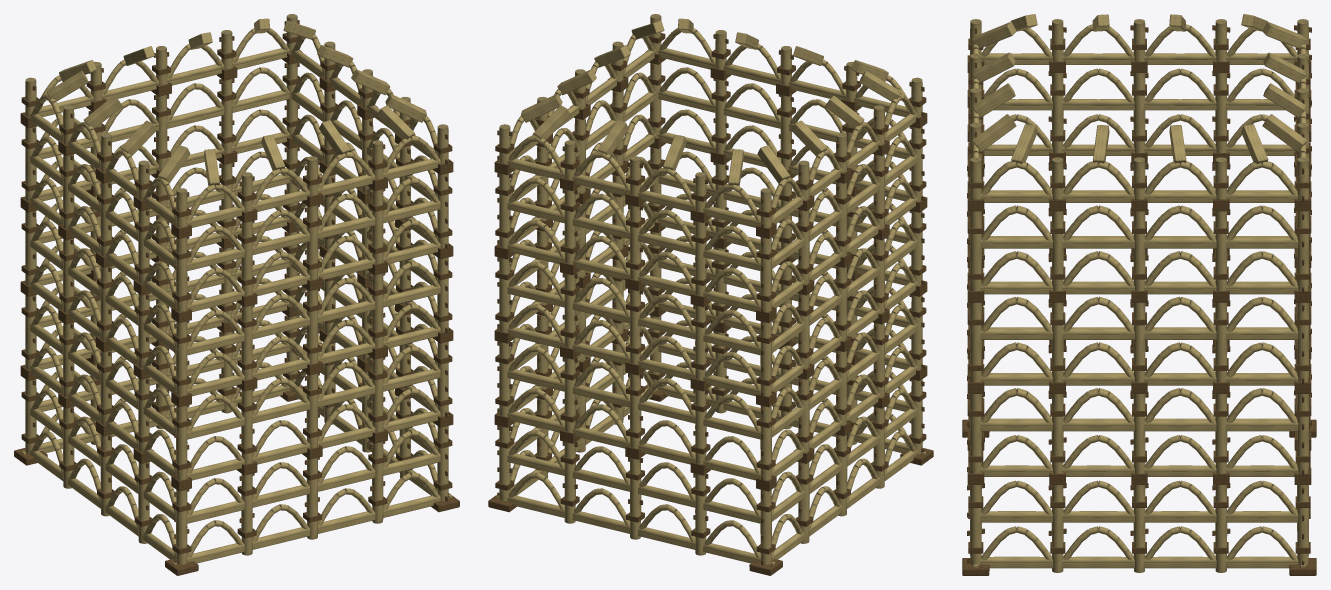
The picture shows the model from 3 angles, left to right: view 1: azimuth 30°, elevation 25°; view 2: azimuth 150°, elevation 25°; view 3: azimuth 270°, elevation 25°; orthographic projection. The views are drawn at different scales.
Visible parts, largest first — view 1: Tier 0 side 0 post 3, Tier 0 side 0 post 1, Tier 0 side 0 post 0, Tier 1 side 0 post 0, Tier 2 side 0 post 0, Tier 3 side 0 post 0, Tier 0 side 0 post 2, Tier 2 side 0 post 3, Tier 3 side 0 post 3, Tier 1 side 0 post 3, Tier 2 side 0 post 1, Tier 3 side 2 post 1 (+33 smaller); view 2: Tier 0 side 2 post 1, Tier 0 side 2 post 3, Tier 0 side 2 post 2, Tier 2 side 3 post 0, Tier 1 side 3 post 0, Tier 3 side 3 post 0, Tier 0 side 3 post 0, Tier 2 side 2 post 1, Tier 3 side 2 post 1, Tier 1 side 2 post 1, Tier 3 side 0 post 3, Tier 3 side 2 post 0 (+33 smaller); view 3: Tier 0 side 1 post 2, Tier 0 side 1 post 3, Tier 0 side 1 post 1, Tier 2 side 1 post 2, Tier 3 side 3 post 2, Tier 3 side 1 post 2, Tier 1 side 1 post 2, Tier 2 side 1 post 0, Tier 2 side 1 post 3, Tier 2 side 1 post 1, Tier 3 side 1 post 3, Tier 1 side 1 post 3 (+53 smaller).
Part boxes in pixels (x1,y1,x2,y2): Tier 0 side 0 post 3: (372,442,383,523); Tier 0 side 0 post 1: (241,473,252,555); Tier 0 side 0 post 0: (176,489,187,564); Tier 1 side 0 post 0: (176,405,187,480); Tier 2 side 0 post 0: (176,321,187,396); Tier 3 side 0 post 0: (176,237,187,312); Tier 0 side 0 post 2: (306,457,317,539); Tier 2 side 0 post 3: (372,273,383,348); Tier 3 side 0 post 3: (372,189,383,264); Tier 1 side 0 post 3: (372,357,383,432); Tier 2 side 0 post 1: (241,305,252,380); Tier 3 side 2 post 1: (221,79,232,153); Tier 0 side 2 post 1: (564,442,575,523); Tier 0 side 2 post 3: (695,473,706,555); Tier 0 side 2 post 2: (630,457,641,539); Tier 2 side 3 post 0: (760,321,771,396); Tier 1 side 3 post 0: (760,405,771,480); Tier 3 side 3 post 0: (760,237,771,312); Tier 0 side 3 post 0: (760,489,771,564); Tier 2 side 2 post 1: (564,273,575,348); Tier 3 side 2 post 1: (564,189,575,264); Tier 1 side 2 post 1: (564,357,575,432); Tier 3 side 0 post 3: (715,79,726,153); Tier 3 side 2 post 0: (499,173,510,248); Tier 0 side 1 post 2: (1133,485,1145,572); Tier 0 side 1 post 3: (1215,485,1227,572); Tier 0 side 1 post 1: (1051,485,1063,572); Tier 2 side 1 post 2: (1133,302,1145,382); Tier 3 side 3 post 2: (1133,73,1145,152); Tier 3 side 1 post 2: (1133,211,1145,290); Tier 1 side 1 post 2: (1133,394,1145,473); Tier 2 side 1 post 0: (970,302,981,382); Tier 2 side 1 post 3: (1215,302,1227,382); Tier 2 side 1 post 1: (1051,302,1063,382); Tier 3 side 1 post 3: (1215,211,1227,290); Tier 1 side 1 post 3: (1215,394,1227,473).
Size of the model in its own units: 1.95 by 2.62 by 1.95.
Materials: 2 (2 with a texture image).
